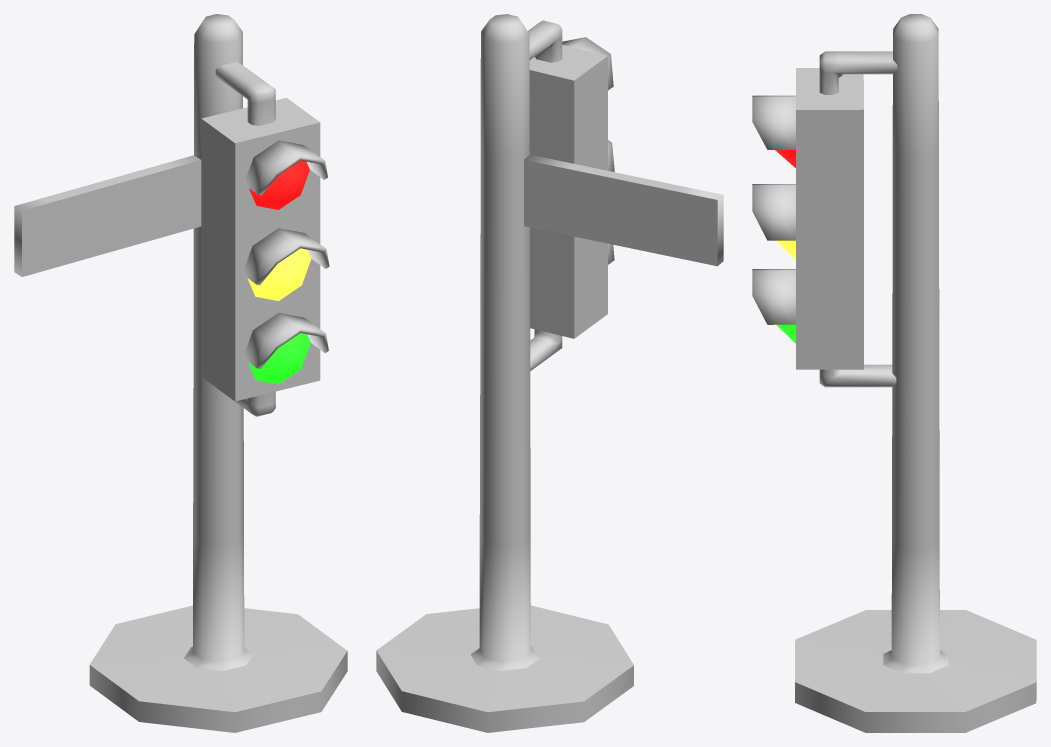
The model's file is traffic light.fbx.
The picture shows the model from 3 angles, left to right: view 1: azimuth 30°, elevation 25°; view 2: azimuth 150°, elevation 25°; view 3: azimuth 270°, elevation 25°; orthographic projection.
Visible parts, largest first — view 1: Cube.031; view 2: Cube.031; view 3: Cube.031.
Part boxes in pixels (x1,y1,x2,y2): Cube.031: [14, 14, 347, 732]; Cube.031: [376, 14, 723, 732]; Cube.031: [752, 14, 1036, 732].
Size of the model in its own units: 261 by 527 by 205.
